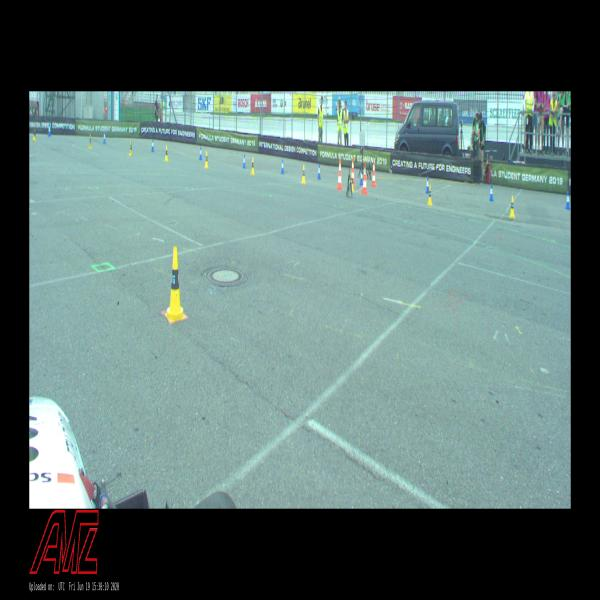blue_cone: (489, 183, 494, 202), (566, 190, 570, 210), (425, 176, 429, 194), (317, 163, 321, 179), (280, 159, 284, 174), (242, 154, 246, 168), (360, 169, 363, 185), (151, 138, 154, 152), (199, 146, 202, 160), (48, 123, 51, 137), (103, 131, 106, 144)
large_orange_cone: (336, 158, 343, 190), (362, 163, 367, 194), (371, 160, 376, 186), (352, 158, 355, 184)
yellow_cone: (164, 246, 186, 322), (510, 196, 516, 218), (301, 164, 306, 184), (428, 184, 432, 206), (164, 146, 169, 162), (204, 152, 209, 168), (251, 157, 255, 176), (129, 140, 133, 157), (351, 173, 354, 192), (32, 128, 36, 141), (89, 133, 92, 149)
